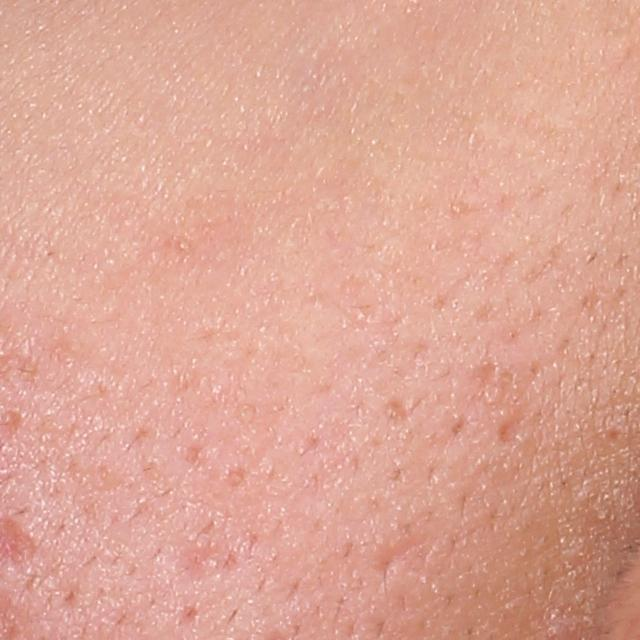atrophic_scar: (372, 529, 420, 579), (494, 405, 533, 445), (382, 396, 414, 426)
